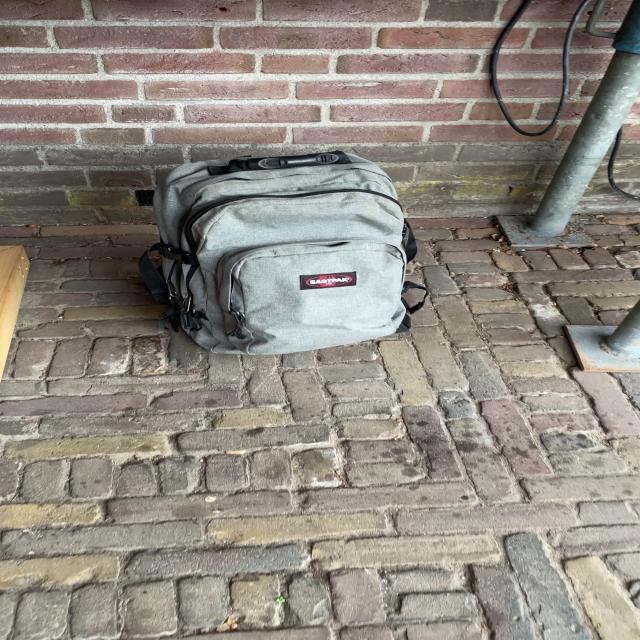backpack: (128, 142, 430, 360)
